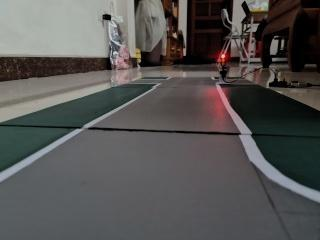red: (217, 48, 231, 76)
